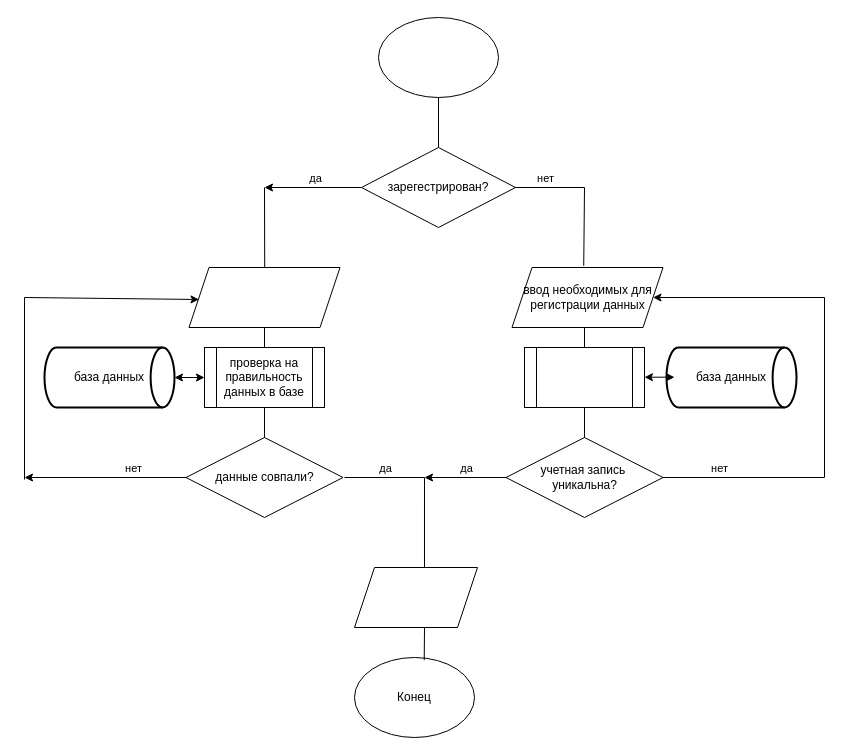
The diagram is 850 pixels wide and 755 high, and some of its shapes have lost their labels. The centre of each missing label's shape, as x and y in pixels:
"ввод логина| пароля" goes at (264,297).
"Начало" goes at (438,57).
"проверка на эдентичность данных в базе" goes at (584,377).
"Сообщение об успешном входе" goes at (416,597).
